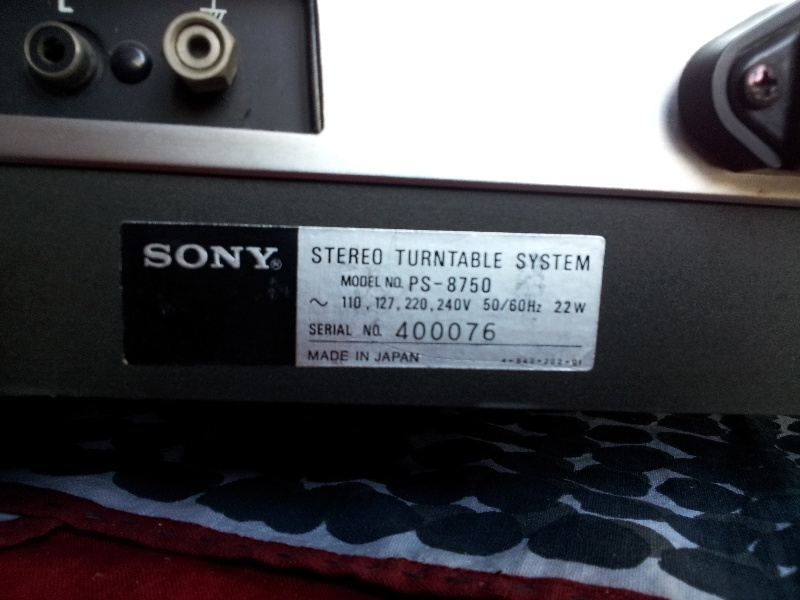text: (145, 242, 160, 270), (161, 242, 176, 270), (177, 242, 192, 270), (193, 242, 208, 270), (209, 242, 224, 270), (225, 242, 240, 270), (241, 242, 256, 270), (257, 242, 272, 270), (401, 321, 416, 342), (417, 321, 432, 342), (433, 321, 448, 342), (449, 321, 464, 342), (465, 321, 480, 342), (481, 321, 496, 342), (401, 250, 416, 269), (417, 250, 432, 269), (433, 250, 448, 269), (449, 250, 464, 269), (465, 250, 480, 269), (481, 250, 496, 269), (529, 253, 544, 271), (545, 253, 560, 271), (561, 253, 576, 271), (321, 247, 336, 265), (337, 247, 352, 265), (353, 247, 368, 265), (417, 276, 432, 293), (433, 276, 448, 293), (449, 276, 464, 293), (465, 276, 480, 293), (369, 247, 383, 265), (577, 253, 590, 271), (497, 298, 512, 313), (513, 298, 528, 313), (273, 242, 280, 270), (449, 298, 464, 311), (353, 275, 368, 288), (529, 298, 542, 313), (561, 301, 576, 314), (321, 323, 336, 336), (337, 323, 352, 336), (518, 253, 528, 271), (484, 298, 496, 313), (385, 351, 400, 363), (401, 351, 416, 363), (369, 275, 382, 288), (321, 350, 336, 361), (513, 357, 528, 368), (529, 357, 544, 368), (545, 357, 560, 368), (561, 357, 576, 368), (369, 324, 381, 337), (386, 277, 400, 288), (417, 297, 428, 311), (481, 276, 490, 293), (309, 323, 320, 336), (406, 297, 416, 311), (337, 350, 349, 361), (356, 351, 368, 362), (438, 298, 448, 311), (342, 275, 352, 288), (385, 297, 395, 310), (313, 247, 320, 265), (309, 350, 320, 361), (577, 301, 586, 314), (343, 297, 352, 309), (353, 297, 362, 309), (376, 297, 384, 310), (503, 357, 512, 368), (376, 351, 384, 363), (497, 250, 502, 269), (577, 357, 585, 368), (411, 276, 416, 293), (465, 298, 471, 311), (396, 250, 400, 269), (363, 324, 368, 337), (397, 321, 400, 342), (556, 301, 560, 314), (417, 351, 419, 363), (401, 277, 402, 288), (369, 351, 370, 362)
